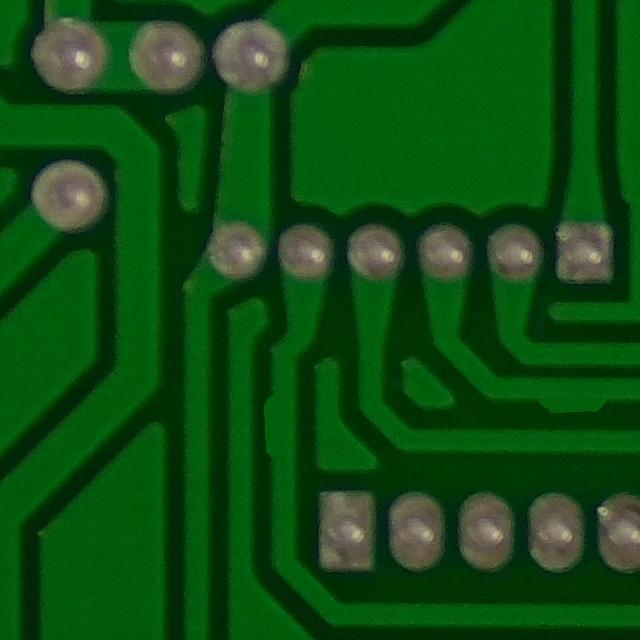spur: (516, 372, 618, 423), (244, 382, 308, 463)
